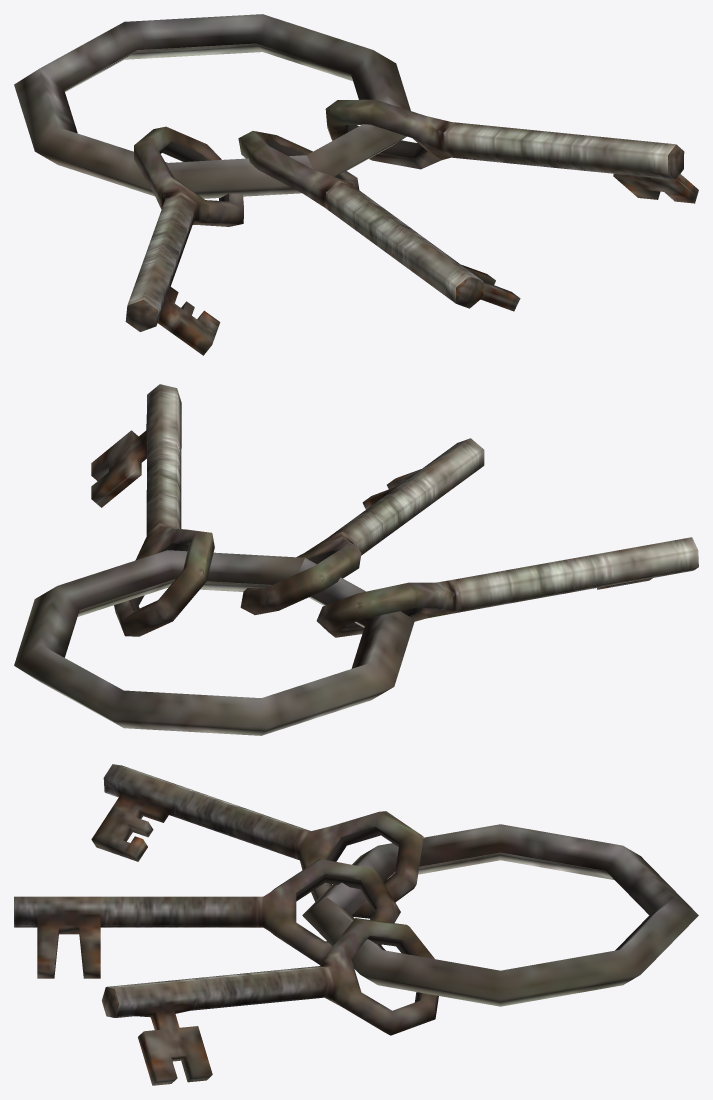
Rendered from KeyChain_2.fbx.
The picture shows the model from 3 angles, top to bottom: view 1: azimuth 30°, elevation 25°; view 2: azimuth 150°, elevation 25°; view 3: azimuth 270°, elevation 25°; orthographic projection. The views are drawn at different scales.
Parts seen in each view (by area): view 1: KeyChain2; view 2: KeyChain2; view 3: KeyChain2.
Part boxes in pixels (x1=…): KeyChain2: x1=14, y1=14, x2=698, y2=355; KeyChain2: x1=14, y1=384, x2=698, y2=735; KeyChain2: x1=14, y1=764, x2=698, y2=1085.
Bounding box in the file's own units: 30.6 × 5.01 × 32.24.
Materials: 1 (1 with a texture image).
